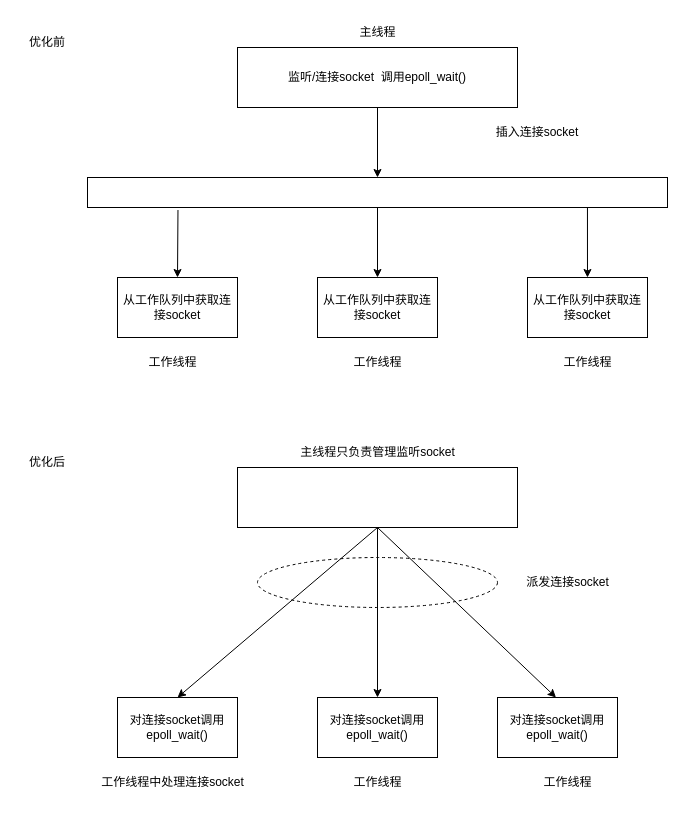
Some shapes in this 685 by 814 pixel diagram are drawn without their labels. The shapes that lost their labels are listed below. From the top down, each one's centre as x and y in pixels, then its label:
At point (377, 192): "请求队列".
At point (377, 497): "监听socket 调用epoll_wait()".
